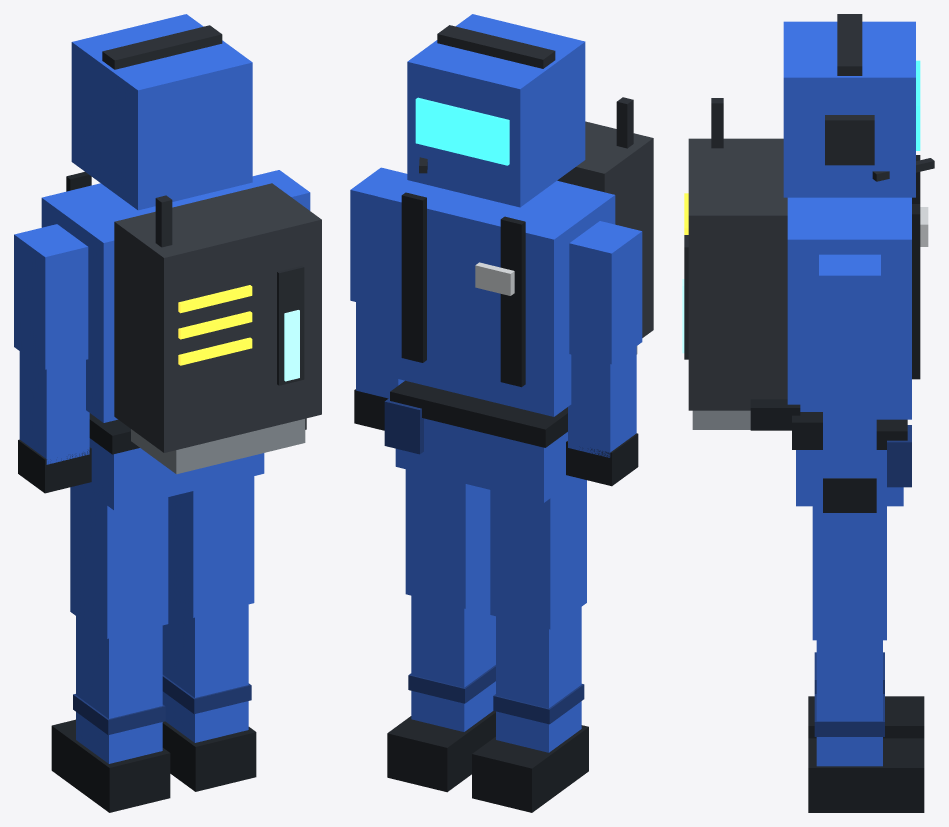
Rendered from ion_rig_storm_blue.glb.
The picture shows the model from 3 angles, left to right: view 1: azimuth 30°, elevation 25°; view 2: azimuth 150°, elevation 25°; view 3: azimuth 270°, elevation 25°; orthographic projection.
Parts seen in each view (by area): view 1: Merged4, Merged, Merged5, Merged6, _MeshInstance3D_3231, _MeshInstance3D_3242, _MeshInstance3D_3226, Merged2, Merged7, _MeshInstance3D_3237; view 2: Merged4, Merged, Merged5, Merged6, Merged7, _MeshInstance3D_3231, _MeshInstance3D_3242, _MeshInstance3D_3226, Merged2, _MeshInstance3D_3237, Merged3; view 3: Merged4, Merged, Merged6, _MeshInstance3D_3242, _MeshInstance3D_3237, Merged3, Merged7, Merged5.
Part boxes in pixels (box(x1,y1,x2,y2)): Merged4: box(41, 172, 321, 474); Merged: box(71, 14, 252, 210); Merged5: box(51, 616, 170, 812); Merged6: box(162, 600, 256, 791); _MeshInstance3D_3231: box(70, 485, 168, 638); _MeshInstance3D_3242: box(168, 476, 254, 617); _MeshInstance3D_3226: box(14, 224, 88, 369); Merged2: box(18, 351, 91, 493); Merged7: box(79, 413, 264, 510); _MeshInstance3D_3237: box(252, 170, 310, 210); Merged4: box(377, 97, 653, 416); Merged: box(407, 14, 585, 207); Merged5: box(472, 607, 588, 812); Merged6: box(387, 591, 495, 792); Merged7: box(384, 380, 577, 502); _MeshInstance3D_3231: box(490, 478, 586, 629); _MeshInstance3D_3242: box(405, 469, 490, 608); _MeshInstance3D_3226: box(569, 221, 642, 364); Merged2: box(566, 346, 638, 486); _MeshInstance3D_3237: box(350, 167, 407, 307); Merged3: box(354, 302, 404, 430); Merged4: box(682, 98, 928, 444); Merged: box(783, 14, 934, 197); Merged6: box(808, 640, 924, 812); _MeshInstance3D_3242: box(812, 506, 886, 640); _MeshInstance3D_3237: box(819, 254, 880, 387); Merged3: box(823, 388, 876, 512); Merged7: box(792, 419, 911, 506); Merged5: box(808, 652, 924, 738).
Bounding box in the file's own units: 0.74 × 1.97 × 0.61.
